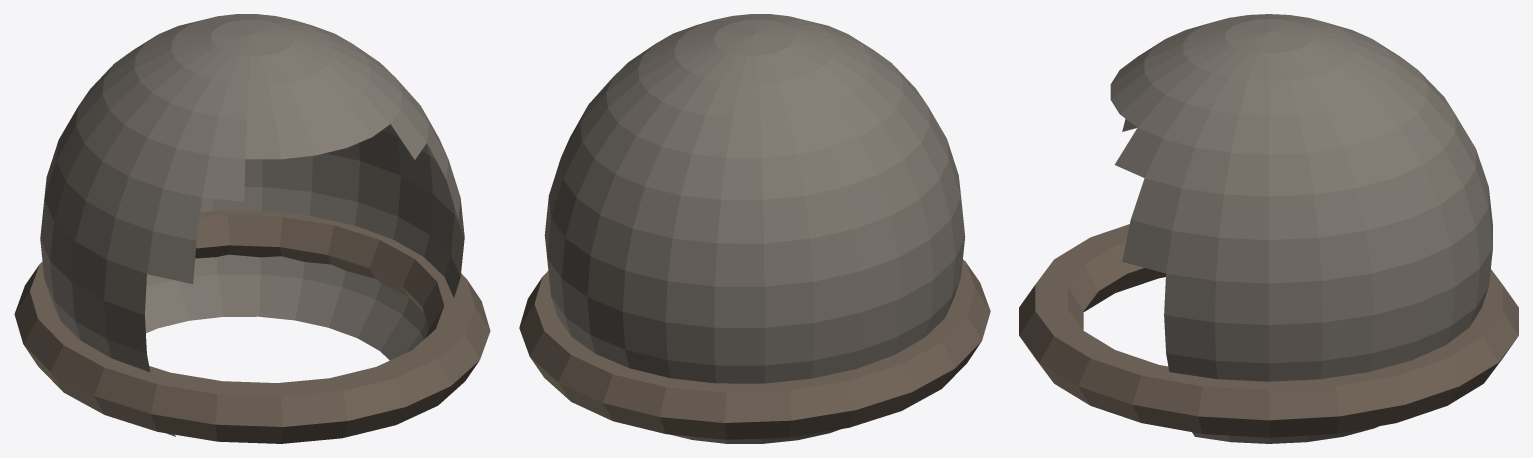
The model's file is Hood.fbx.
The picture shows the model from 3 angles, left to right: view 1: azimuth 30°, elevation 25°; view 2: azimuth 150°, elevation 25°; view 3: azimuth 270°, elevation 25°; orthographic projection.
Parts seen in each view (by area): view 1: Hood; view 2: Hood; view 3: Hood.
Boxes of the visible parts, x1=… form: Hood: x1=14, y1=14, x2=490, y2=443; Hood: x1=519, y1=14, x2=990, y2=443; Hood: x1=1019, y1=14, x2=1518, y2=443.
Bounding box in the file's own units: 17 × 14.01 × 18.17.
